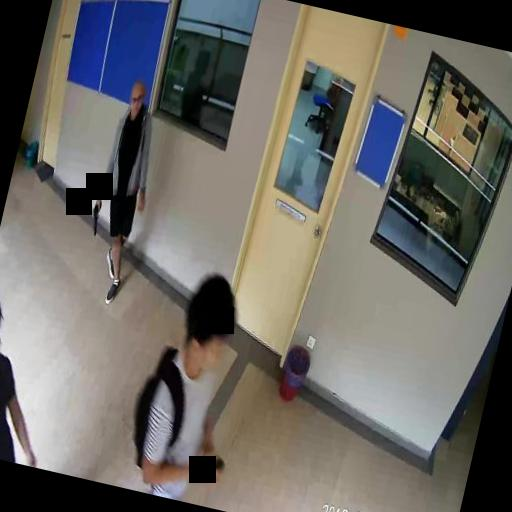Handgun: (86, 197, 103, 235)
